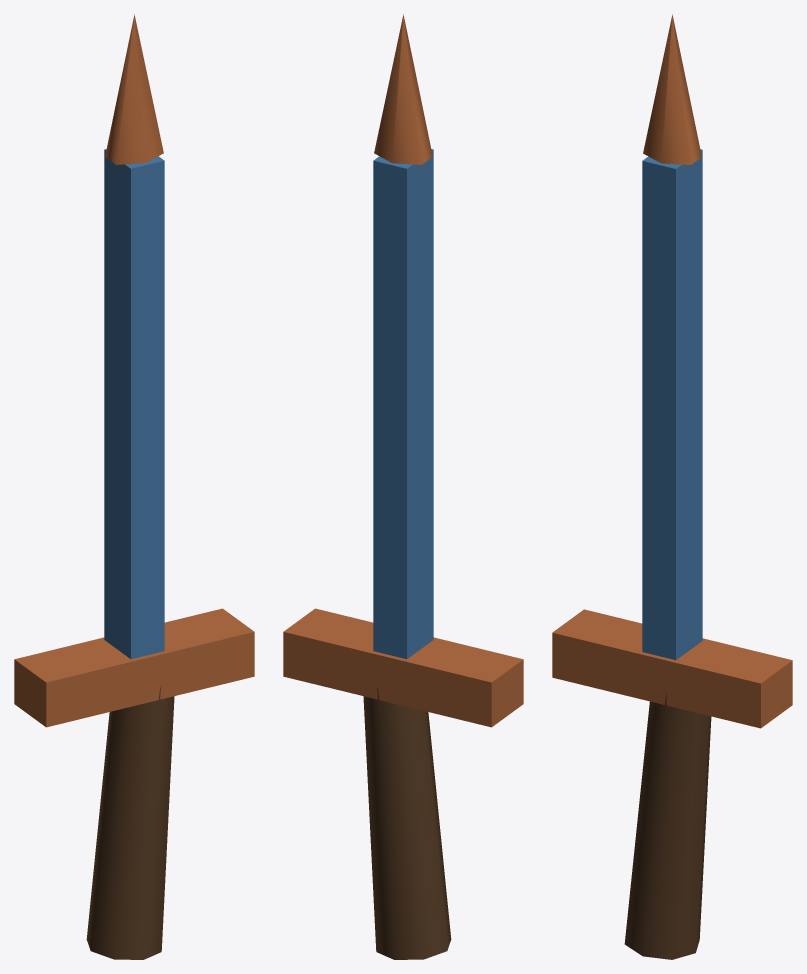
File: wpn_m_06.glb
3 views of the same model, side by side, from view 1: azimuth 30°, elevation 25°; view 2: azimuth 150°, elevation 25°; view 3: azimuth 330°, elevation 25° (orthographic).
Visible parts, largest first — view 1: blade, grip, guard, tip; view 2: blade, grip, guard, tip; view 3: blade, grip, guard, tip.
Boxes of the visible parts, x1,y1,x2,y2 form: blade: (104, 149, 164, 659); grip: (86, 686, 174, 959); guard: (14, 608, 254, 727); tip: (105, 14, 163, 164); blade: (373, 149, 433, 659); grip: (363, 686, 451, 959); guard: (283, 608, 523, 727); tip: (374, 14, 432, 164); blade: (642, 149, 702, 660); grip: (624, 690, 711, 959); guard: (552, 609, 792, 728); tip: (643, 14, 701, 164).
Size of the model in its own units: 0.34 by 1.45 by 0.11.
